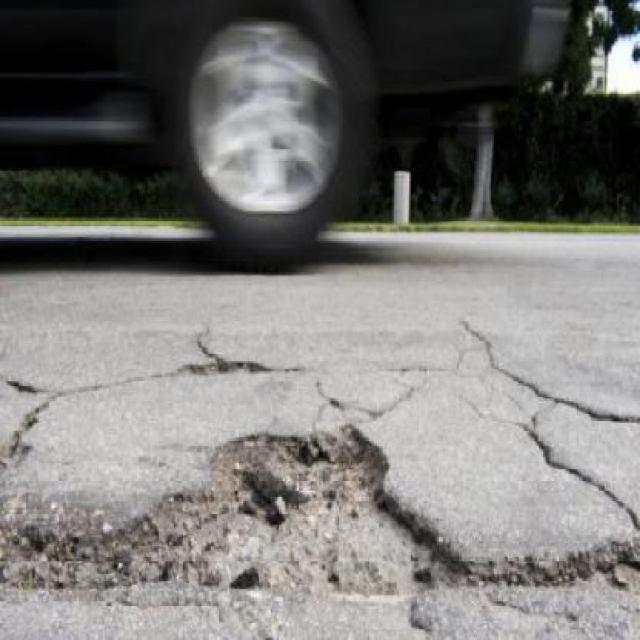pothole: (103, 414, 476, 607)
